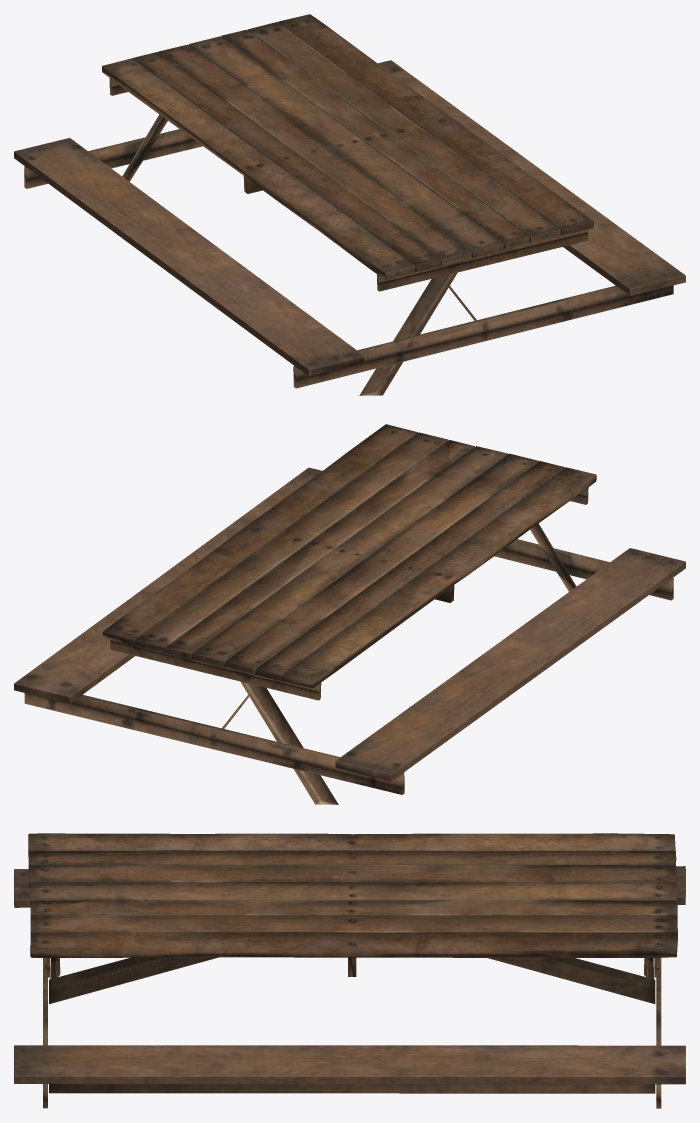
The model's file is wooden_picnic_table.gltf.
3 views of the same model, one above another, from view 1: azimuth 30°, elevation 25°; view 2: azimuth 150°, elevation 25°; view 3: azimuth 270°, elevation 25° (orthographic). The views are drawn at different scales.
Parts seen in each view (by area): view 1: wooden_picnic_table; view 2: wooden_picnic_table; view 3: wooden_picnic_table.
Boxes of the visible parts, x1,y1,x2,y2 form: wooden_picnic_table: [14, 14, 685, 395]; wooden_picnic_table: [14, 424, 685, 804]; wooden_picnic_table: [14, 833, 685, 1108].
Bounding box in the file's own units: 2.24 × 0.7448 × 3.02.
Materials: 2 (2 with a texture image).
